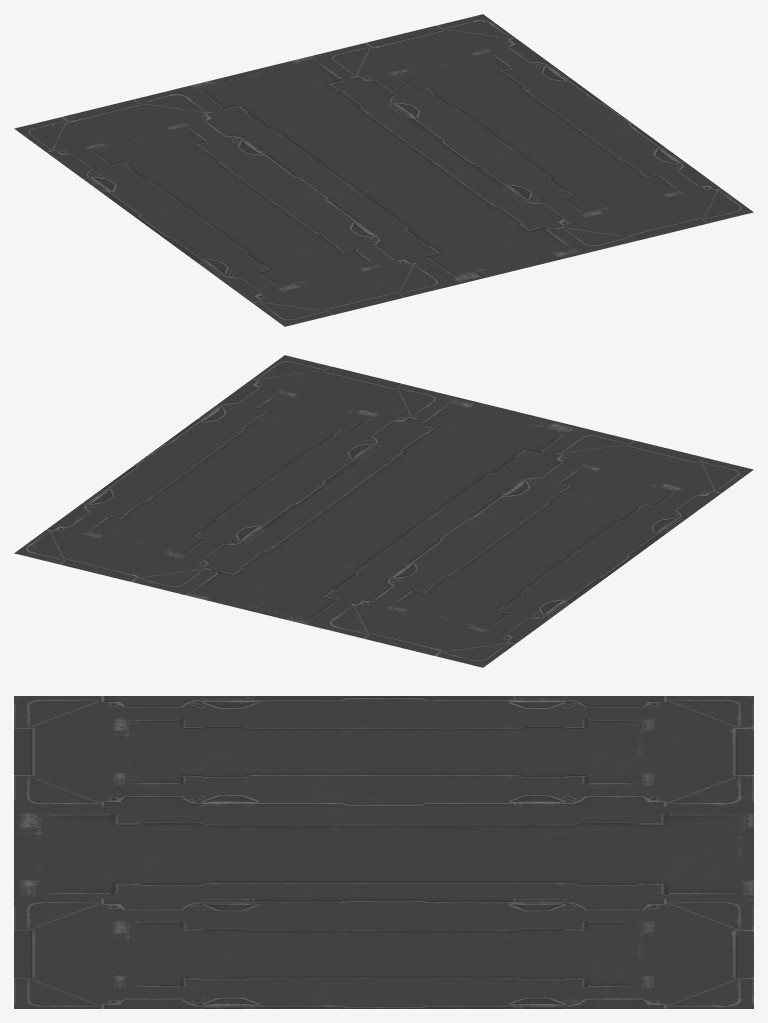
File: sf_floor_dark.glb
3 views of the same model, one above another, from view 1: azimuth 30°, elevation 25°; view 2: azimuth 150°, elevation 25°; view 3: azimuth 270°, elevation 25° (orthographic). The views are drawn at different scales.
Visible parts, largest first — view 1: Platform_DarkPlates; view 2: Platform_DarkPlates; view 3: Platform_DarkPlates.
Part boxes in pixels (left/top/right/bottom): Platform_DarkPlates: left=14, top=14, right=753, bottom=326; Platform_DarkPlates: left=14, top=355, right=753, bottom=667; Platform_DarkPlates: left=14, top=696, right=753, bottom=1008.
Size of the model in its own units: 4 by 0 by 4.
Materials: 1 (1 with a texture image).
